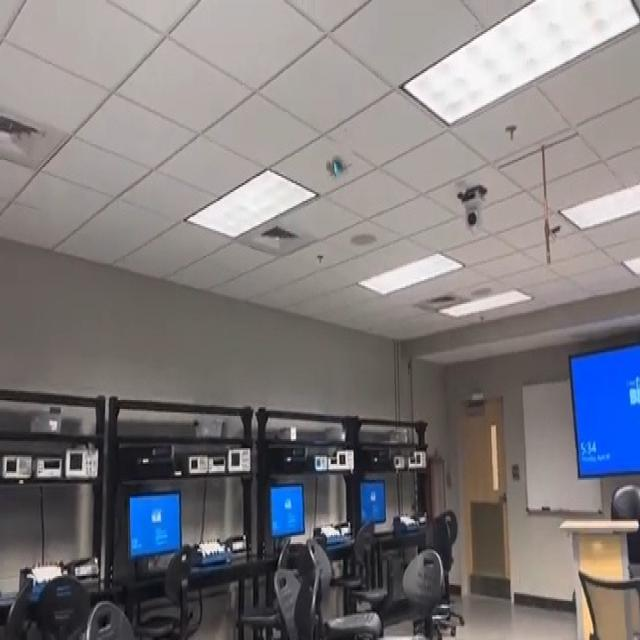drone: (318, 142, 357, 189)
